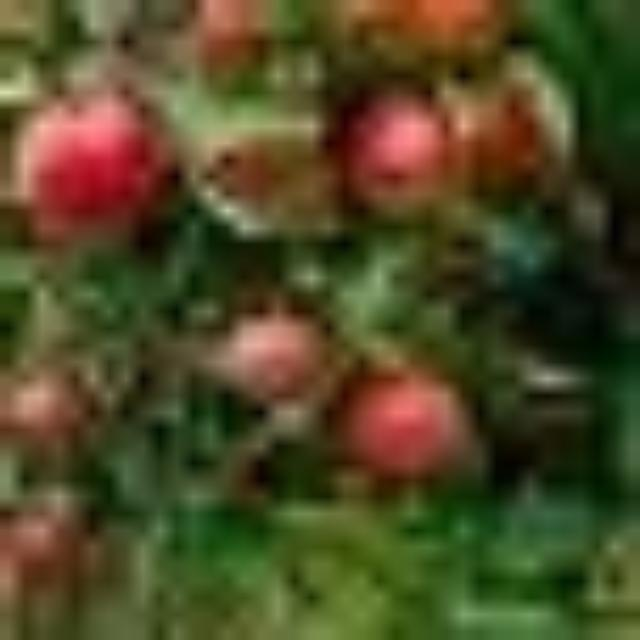Apple: (29, 95, 166, 241), (343, 373, 467, 478), (347, 95, 446, 201), (341, 0, 503, 53), (230, 313, 319, 397)
